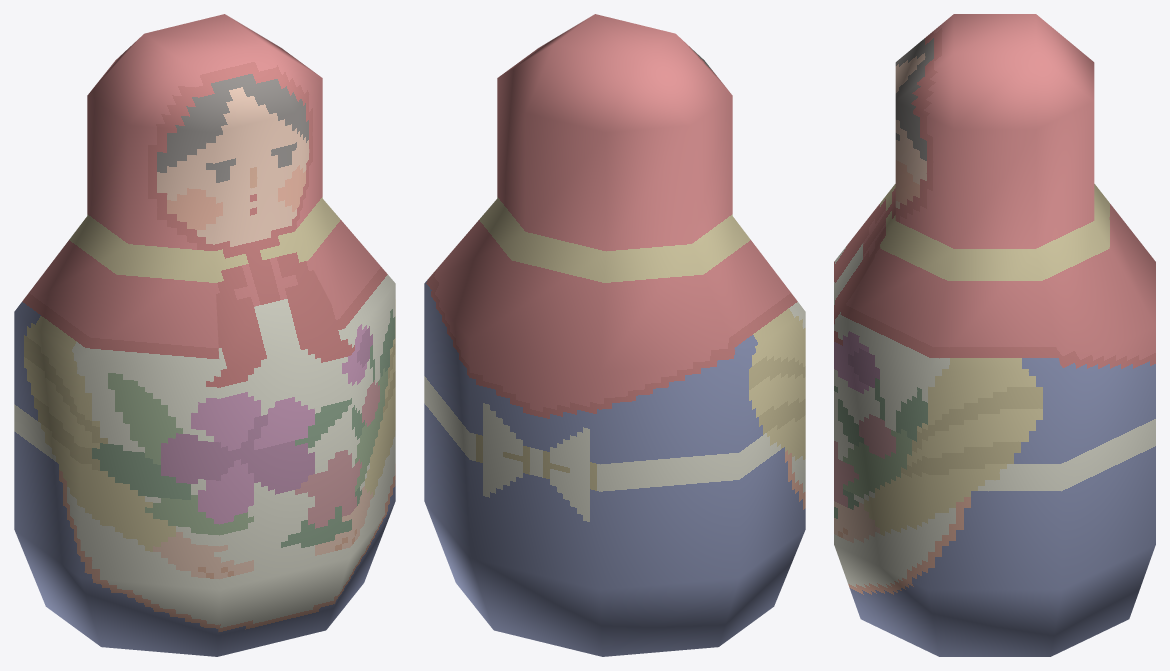
The model's file is 03f8_Russian_Doll_L.glb.
3 views of the same model, side by side, from view 1: azimuth 30°, elevation 25°; view 2: azimuth 150°, elevation 25°; view 3: azimuth 270°, elevation 25° (orthographic).
Parts seen in each view (by area): view 1: part_0; view 2: part_0; view 3: part_0.
Part boxes in pixels (bbox=[...]): part_0: bbox=[14, 14, 395, 656]; part_0: bbox=[424, 14, 805, 656]; part_0: bbox=[834, 14, 1155, 656].
Bounding box in the file's own units: 0.7186 × 1.31 × 0.6326.
Materials: 1 (1 with a texture image).
